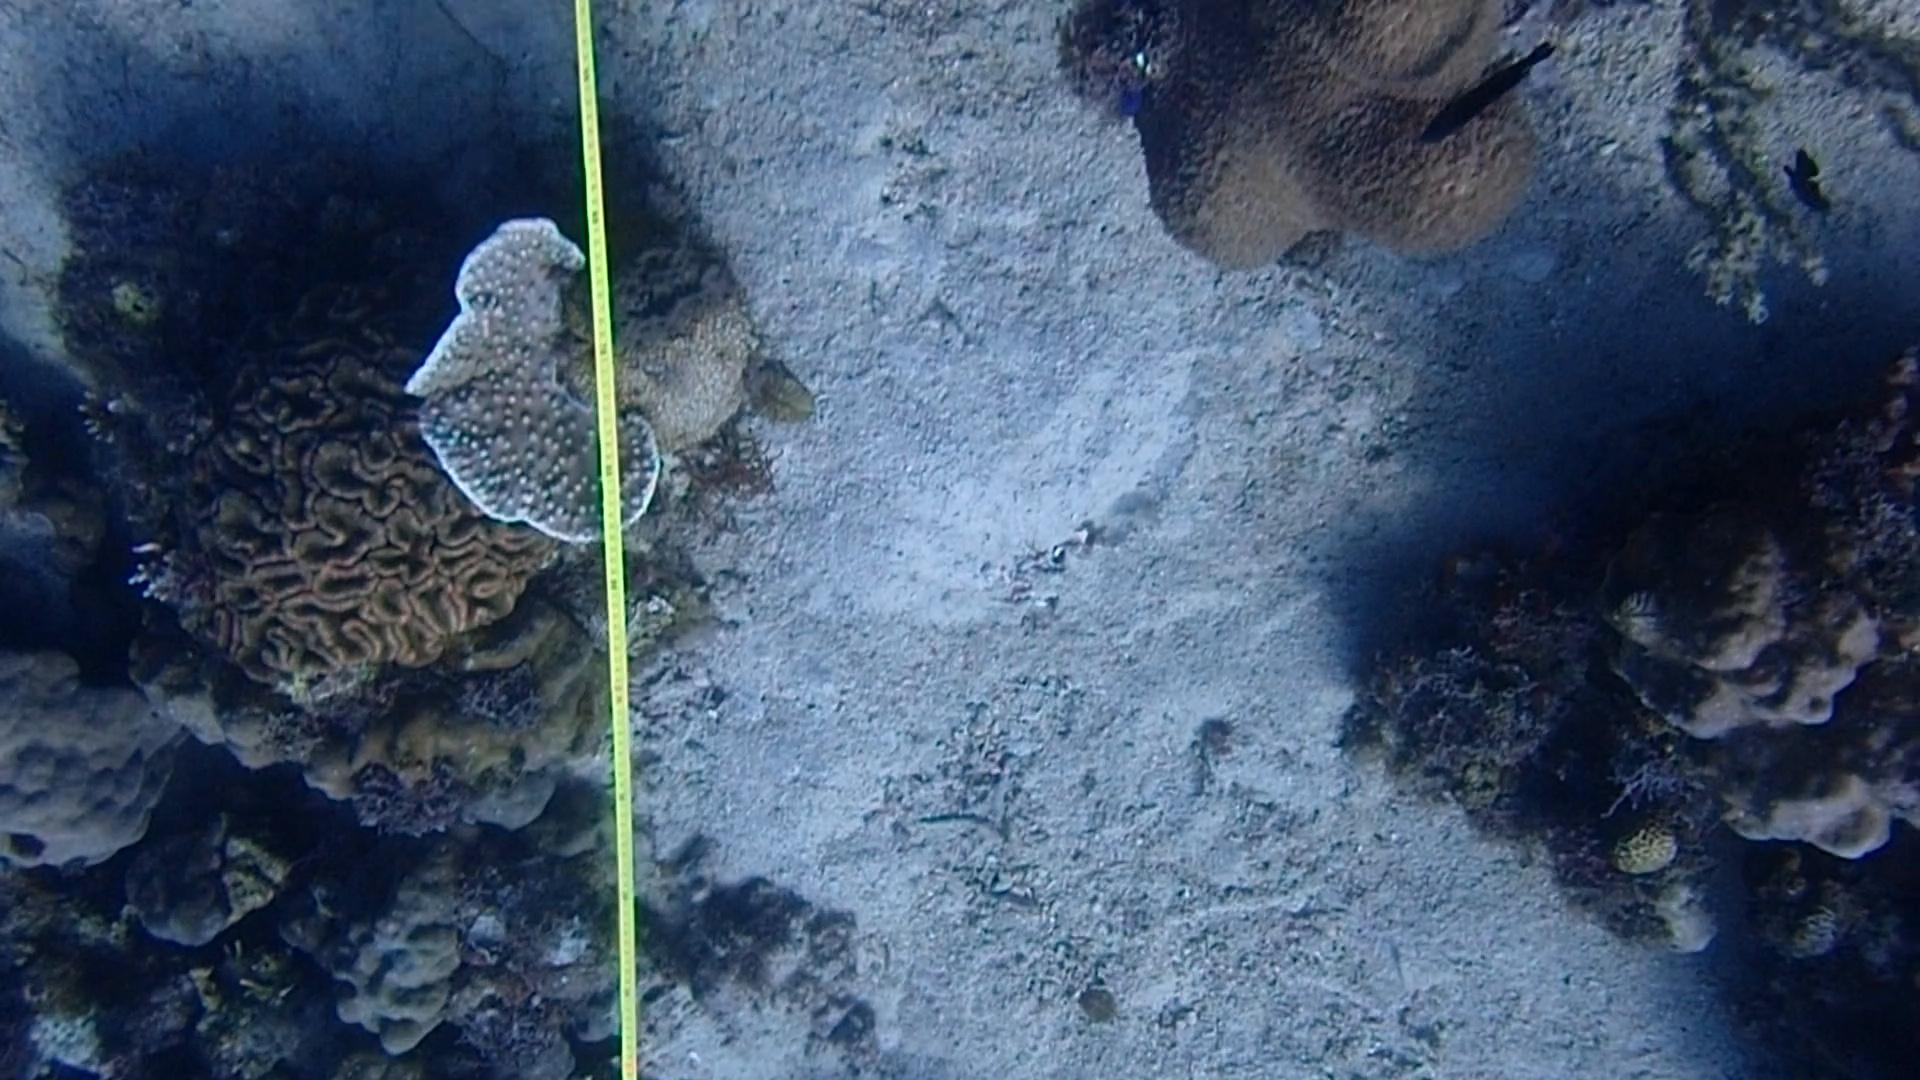Dark Fish: (1411, 37, 1572, 153), (1766, 129, 1846, 222)
